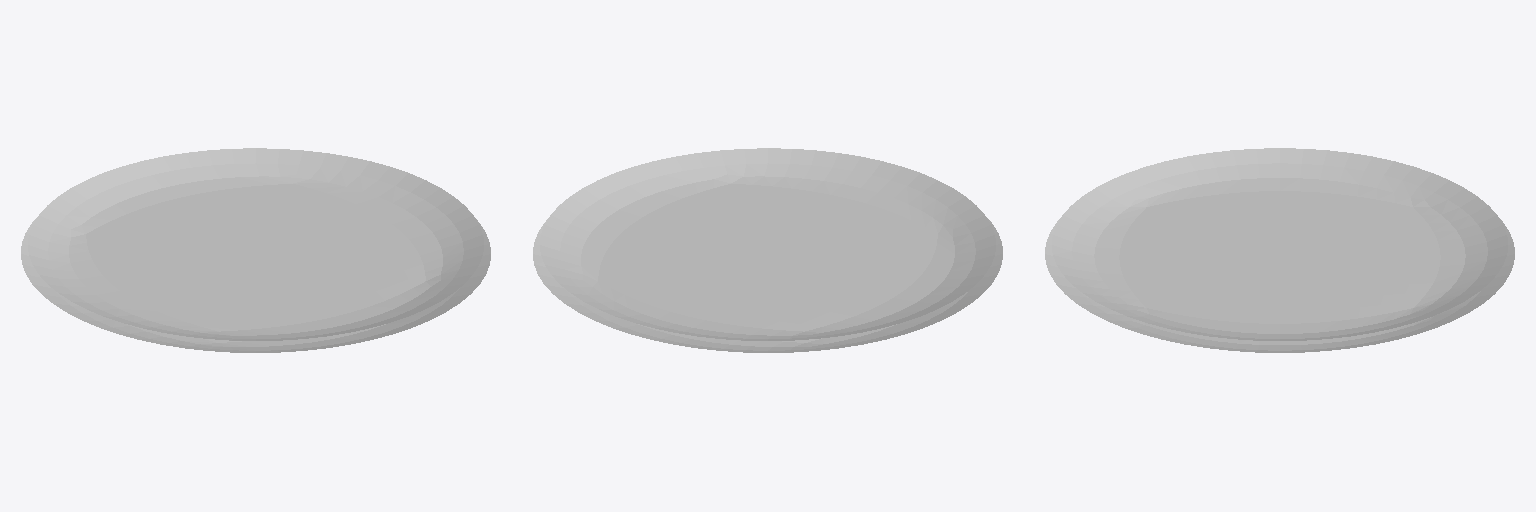
File: saucer2.obj
3 renders of one model, left to right at view 1: azimuth 30°, elevation 25°; view 2: azimuth 150°, elevation 25°; view 3: azimuth 270°, elevation 25°, orthographic.
Parts seen in each view (by area): view 1: saucer:group2; view 2: saucer:group2; view 3: saucer:group2.
Part boxes in pixels (x1,y1,x2,y2): saucer:group2: (21,148,490,352); saucer:group2: (533,148,1002,352); saucer:group2: (1045,148,1514,352).
Size of the model in its own units: 5.68 by 0.3007 by 5.68.